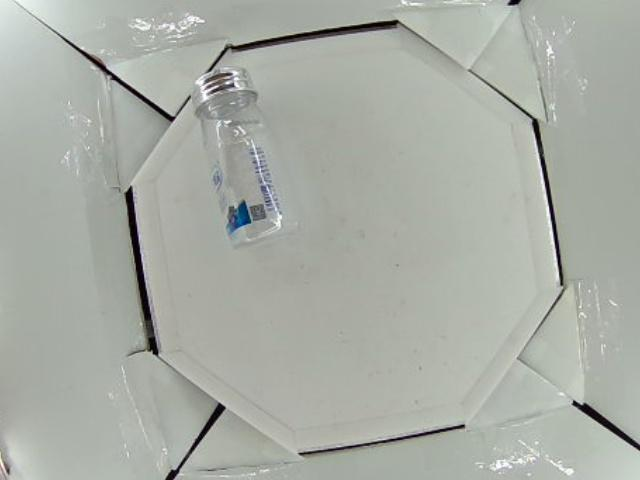Bottle: (193, 68, 297, 247)
